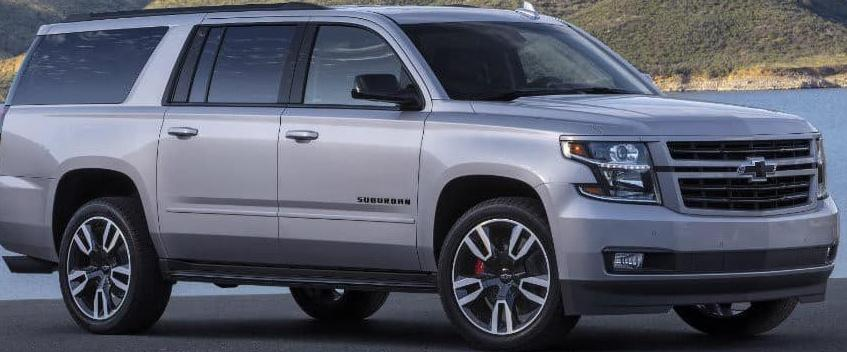SUV: (0, 5, 840, 349)
